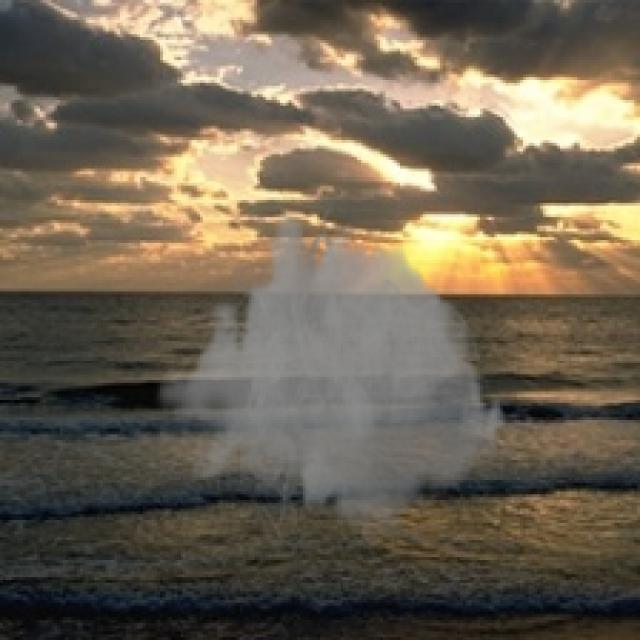Smoke: (154, 197, 509, 569)
